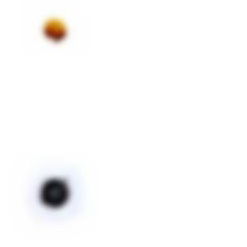cancer: (23, 158, 94, 234)
normal: (34, 8, 81, 53)
